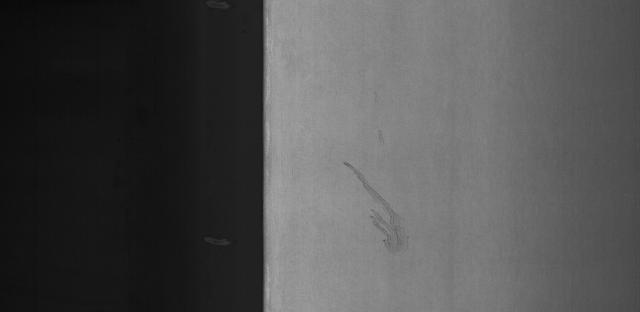water_spot: (335, 155, 426, 258)
